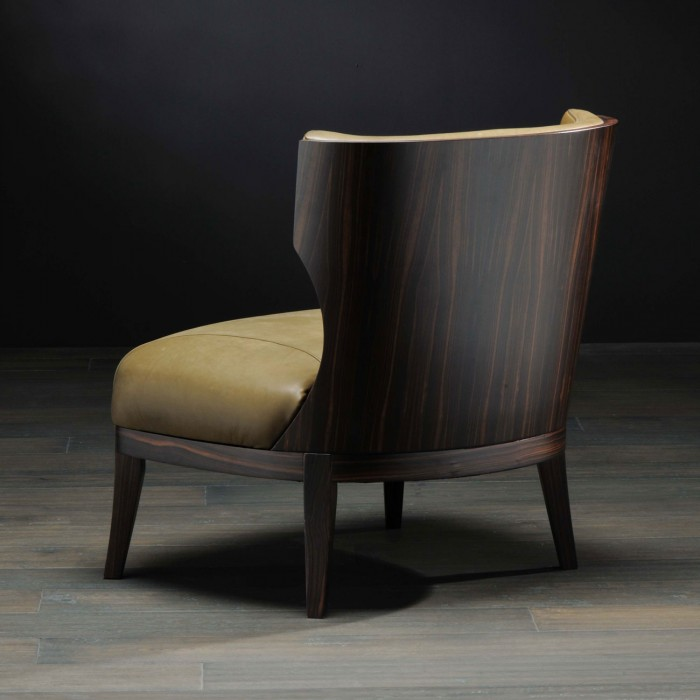chairs: (106, 99, 626, 618)
